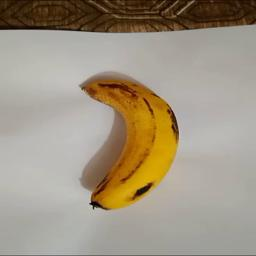Banana Semifresh: (78, 73, 181, 213)
